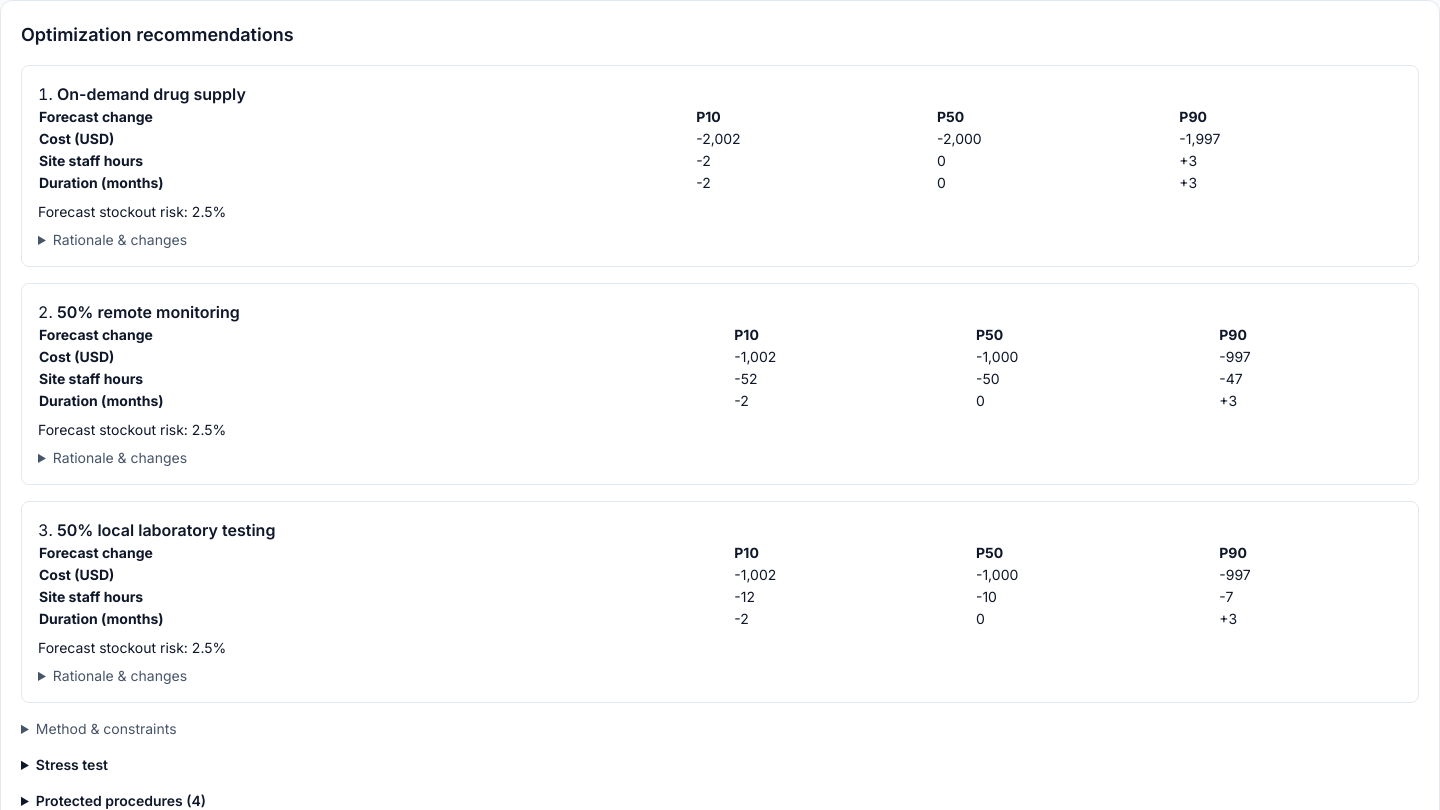
Test: NextLever › shows an unestimated stress scenario as Not estimated rather than zero
What coordinates should you click on to do the following:
click the heading "Stress test"
I would click on:
 (72, 764)
Its box is [36,756,108,773].
(page scrolled)
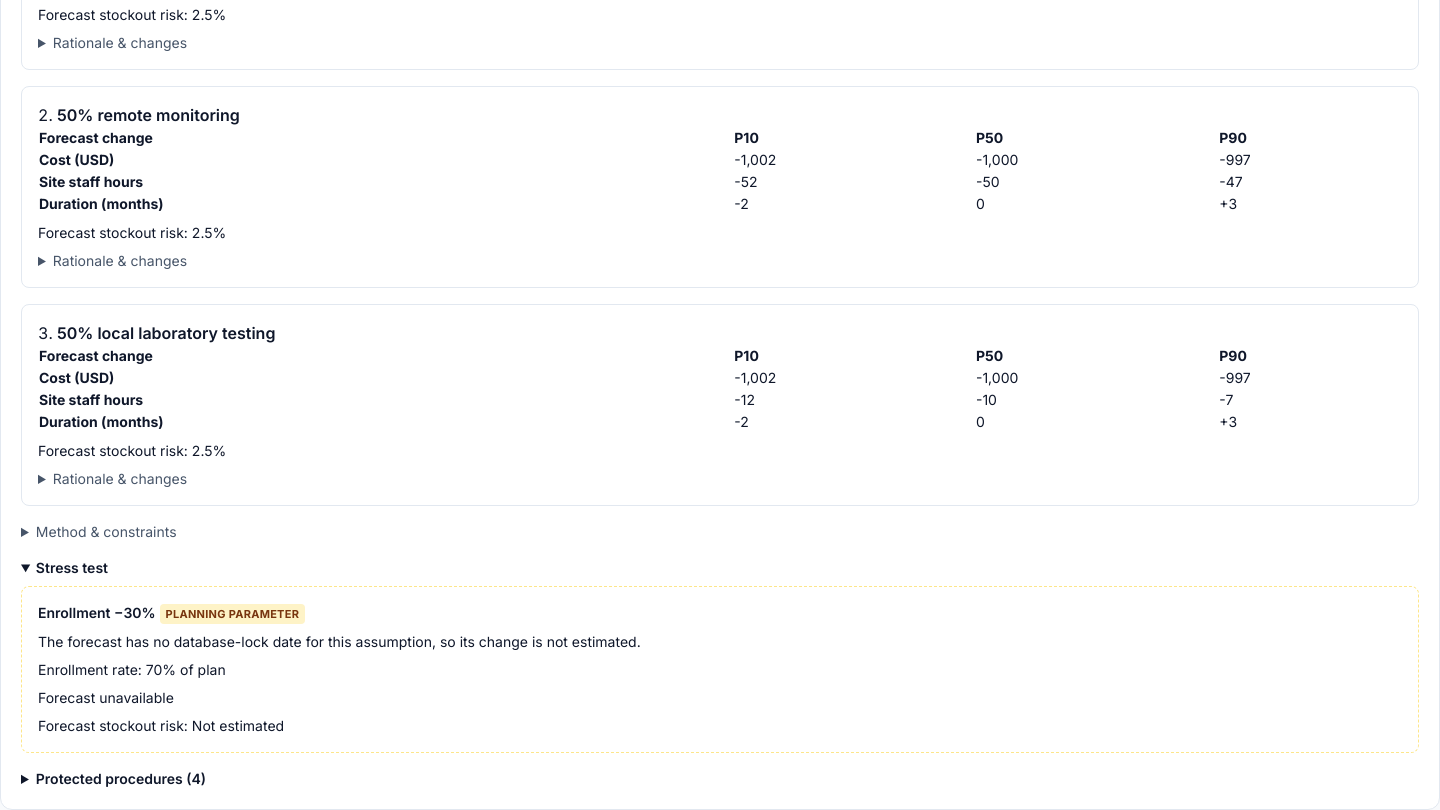
Expected: the list item that starts with "Enrollment −30%" shows "Forecast unavailable", [38,689,174,706]
Expected: the list item that starts with "Enrollment −30%" shows "Forecast stockout risk: Not estimated", [21,586,1419,753]
Expected: the text "Planning parameter" is shown, [160,604,305,624]
